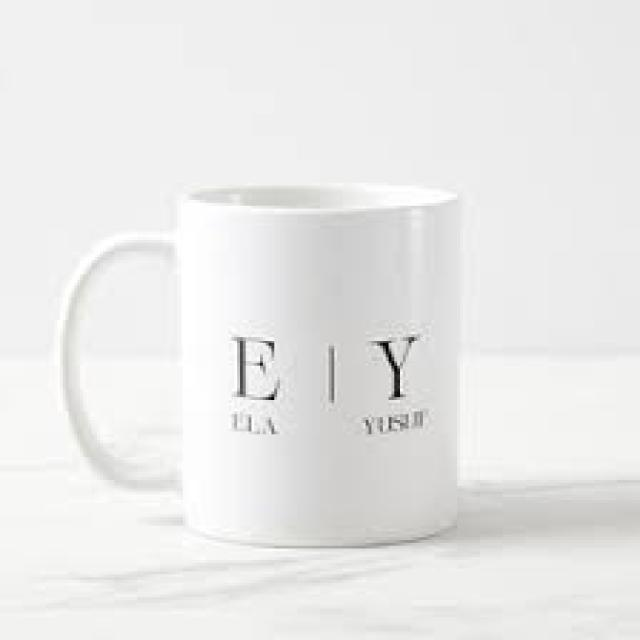taza: (58, 183, 462, 549)
